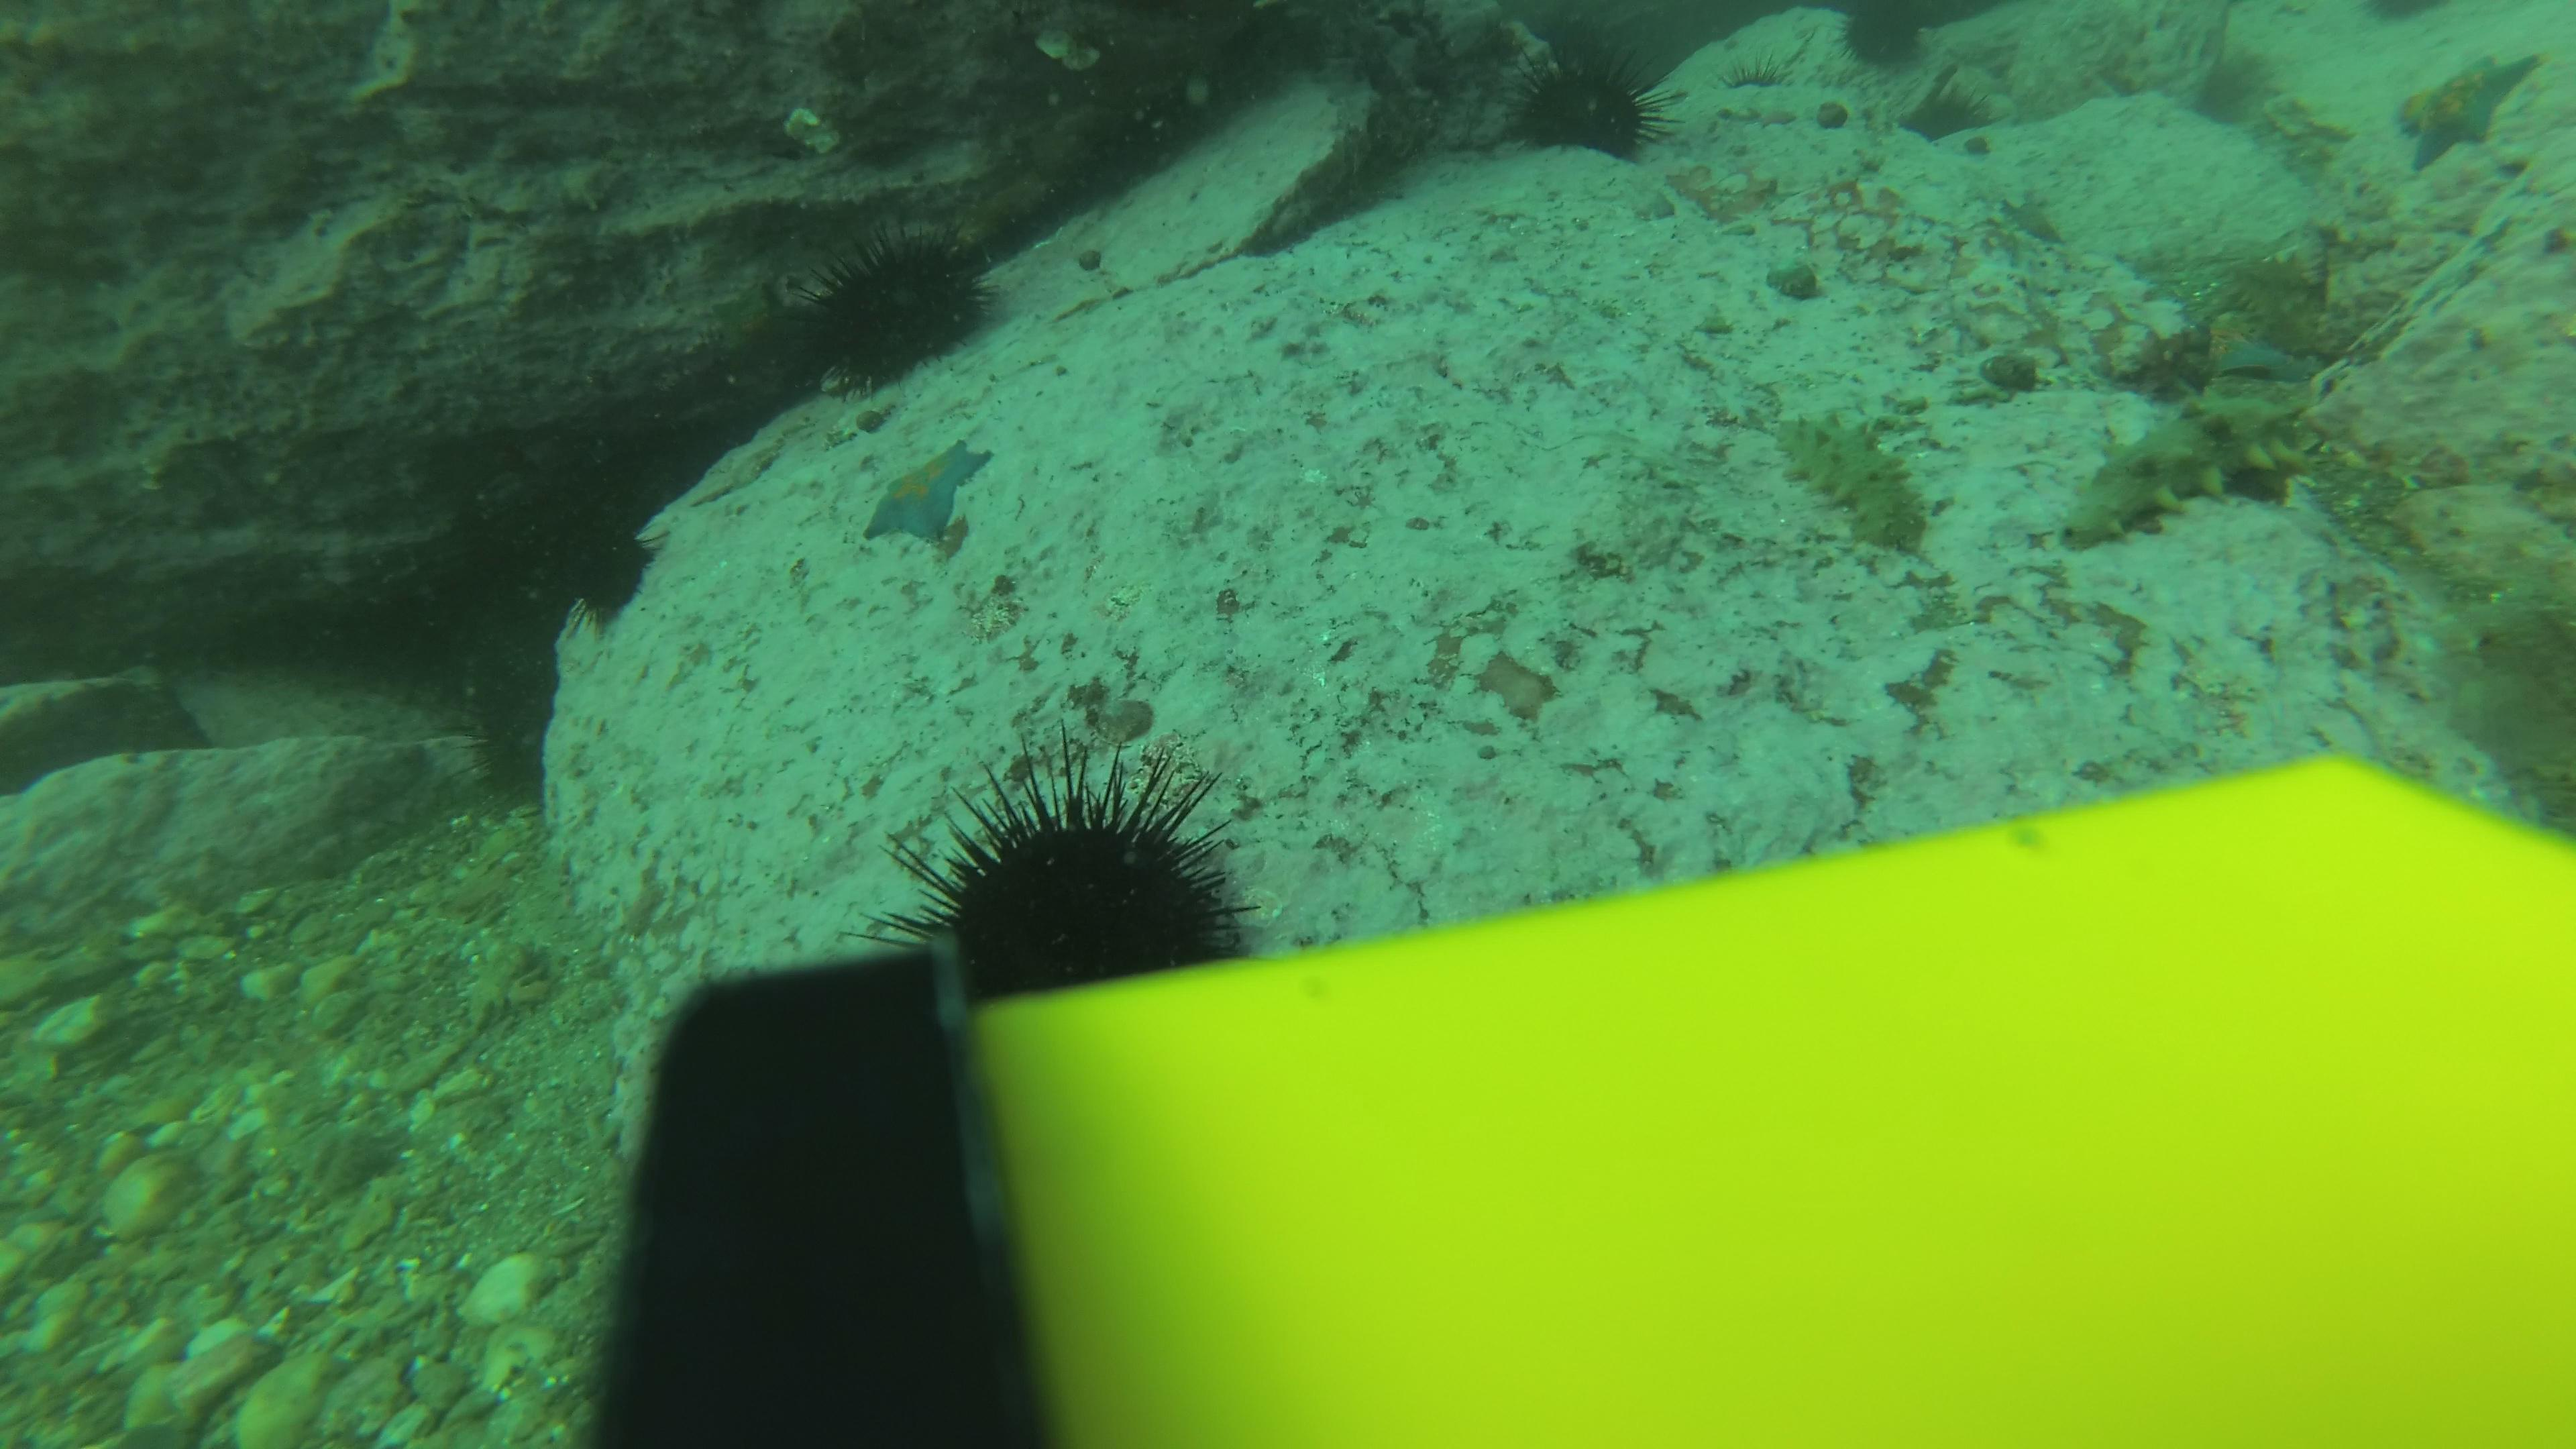urchin: (897, 761, 1299, 1024), (794, 211, 1017, 382), (1529, 50, 1674, 175), (561, 531, 663, 616), (1838, 12, 1946, 81), (1907, 85, 2006, 138)
